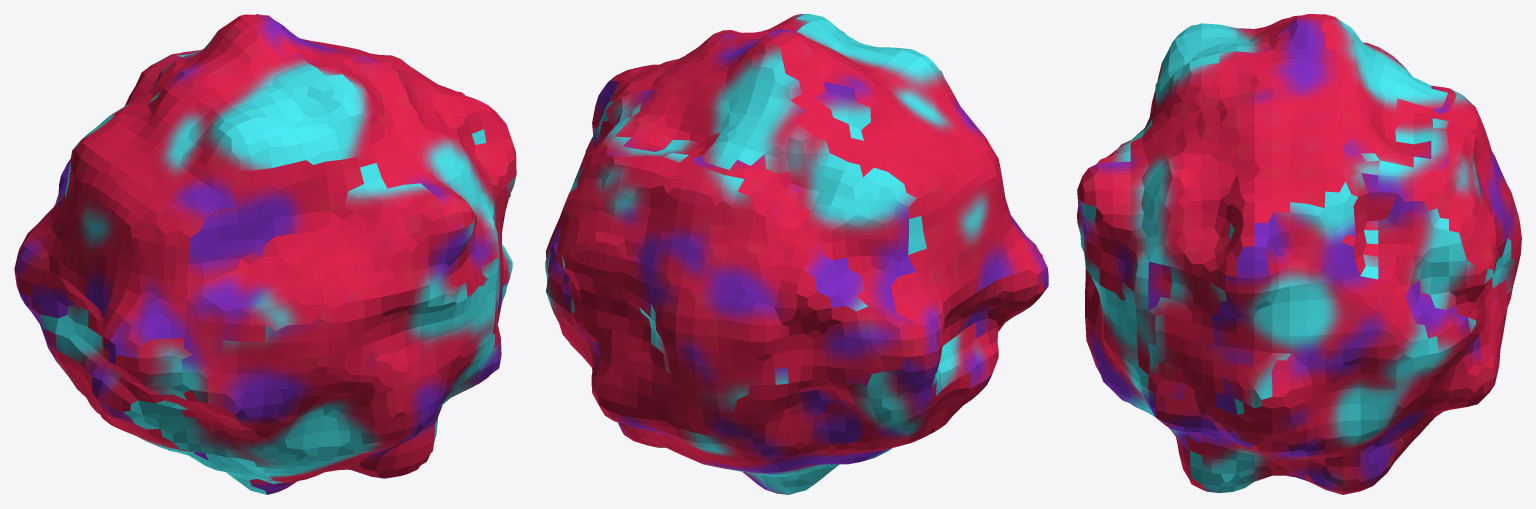
File: playerball.fbx
The picture shows the model from 3 angles, left to right: view 1: azimuth 30°, elevation 25°; view 2: azimuth 150°, elevation 25°; view 3: azimuth 270°, elevation 25°; orthographic projection.
Parts seen in each view (by area): view 1: Sphere; view 2: Sphere; view 3: Sphere.
Boxes of the visible parts, box(x1,y1,x2,y2) form: Sphere: box(14, 14, 516, 494); Sphere: box(545, 14, 1048, 494); Sphere: box(1077, 14, 1521, 494).
Size of the model in its own units: 2.17 by 2.21 by 1.96.
1 material, 1 textured.
